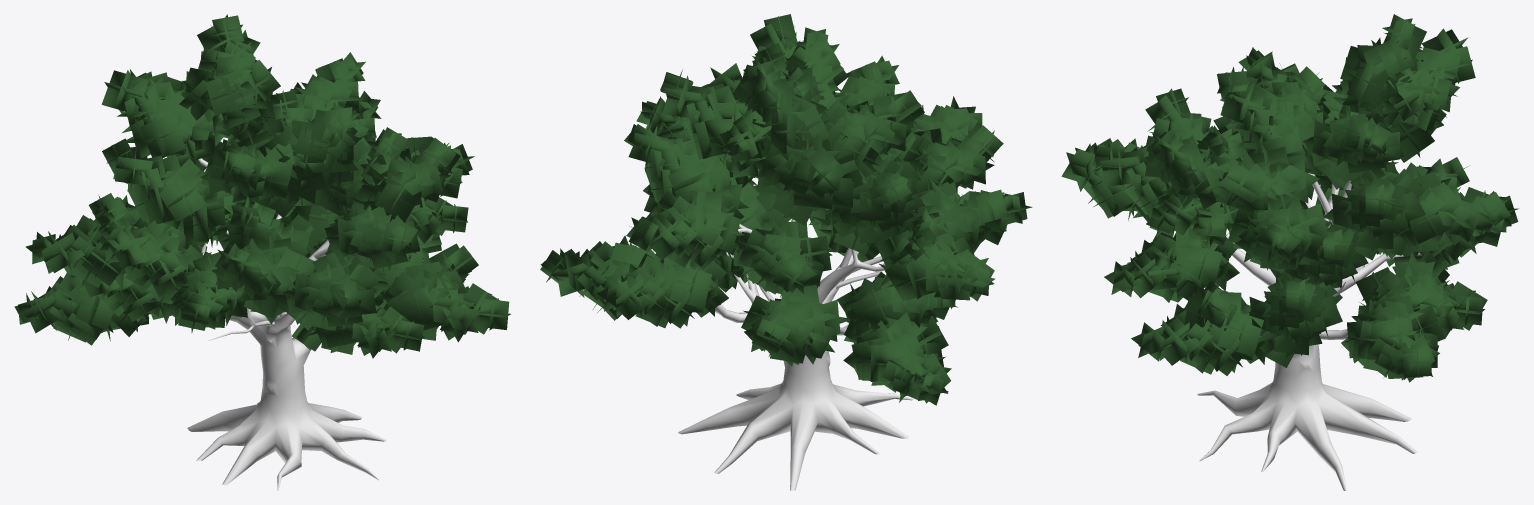
Rendered from Big Tree3.fbx.
3 renders of one model, left to right at view 1: azimuth 30°, elevation 25°; view 2: azimuth 150°, elevation 25°; view 3: azimuth 270°, elevation 25°, orthographic. The views are drawn at different scales.
Visible parts, largest first — view 1: Big Tree_3; view 2: Big Tree_3; view 3: Big Tree_3.
Part boxes in pixels (box(x1,y1,x2,y2)): Big Tree_3: box(14, 14, 510, 490); Big Tree_3: box(540, 14, 1032, 490); Big Tree_3: box(1061, 14, 1518, 490).
Bounding box in the file's own units: 3333 × 3143 × 3100.
